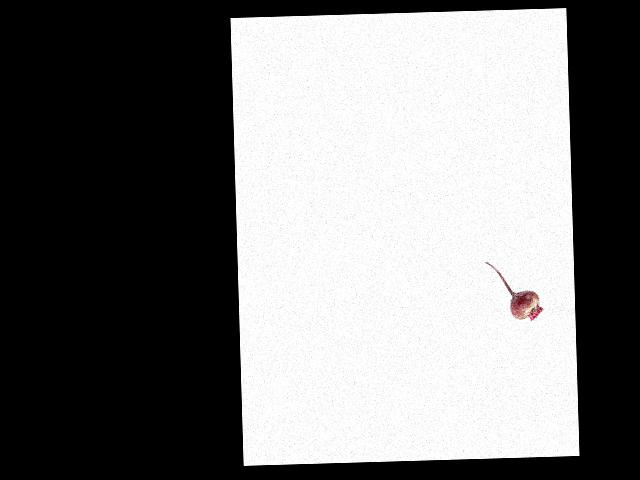beet: (485, 259, 543, 321)
